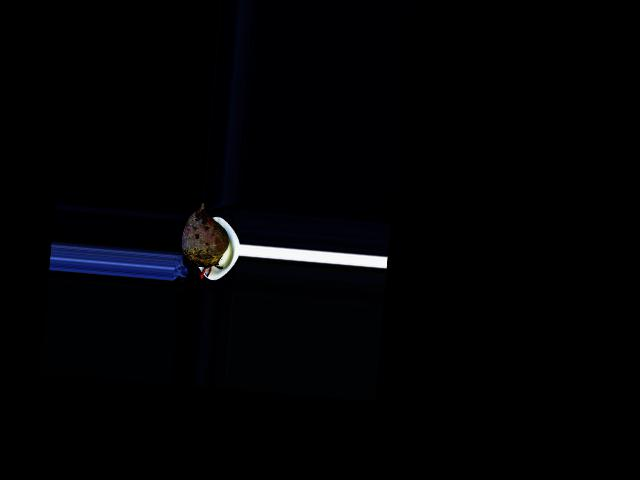beet: (179, 202, 232, 281)
